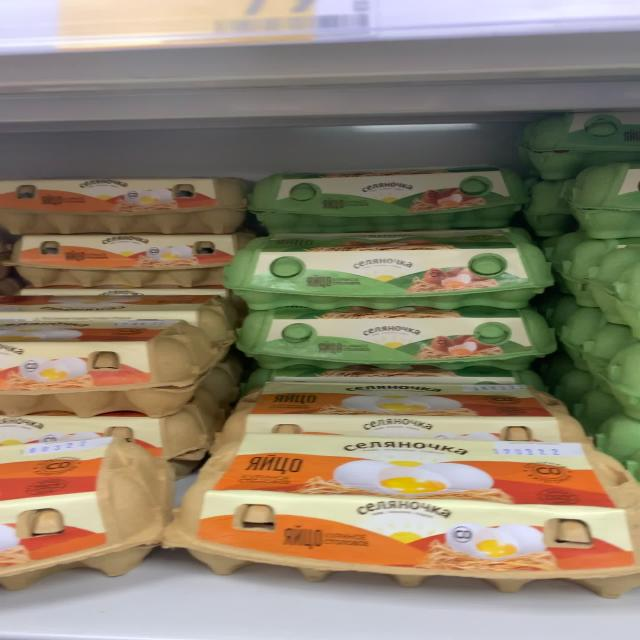egg box: (162, 434, 636, 596), (204, 380, 592, 450), (226, 236, 552, 311), (247, 164, 525, 238), (3, 322, 212, 417), (0, 177, 247, 236), (5, 233, 238, 291)
